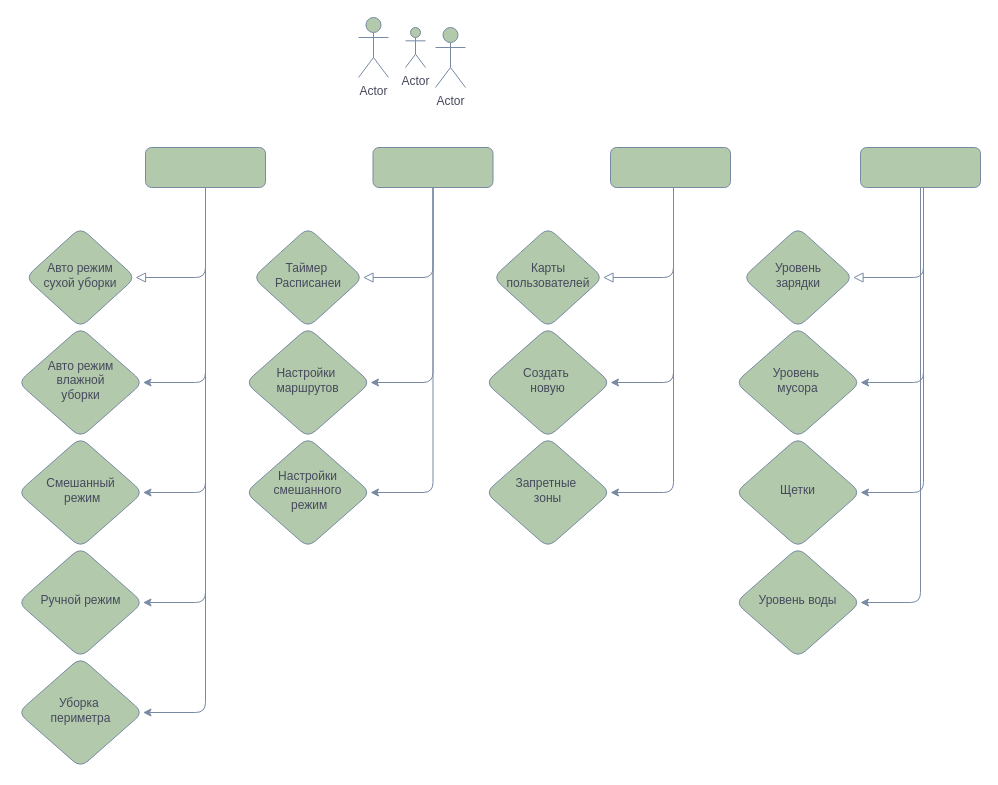
The diagram is 998 pixels wide and 785 high, and some of its shapes have lost their labels. The centre of each missing label's shape, as x and y in pixels:
"Варианты уборки" belongs at point (205, 167).
"Карты" belongs at point (670, 167).
"Настройки" belongs at point (432, 167).
"Обслуживание" belongs at point (920, 167).
